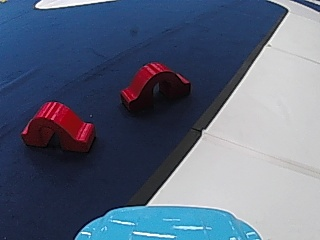bridge: (113, 57, 193, 112), (21, 99, 97, 153)
